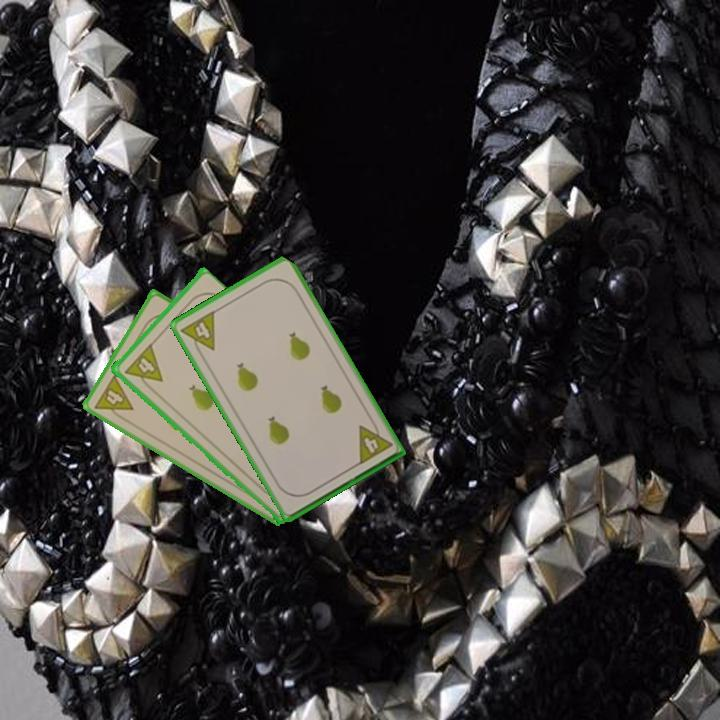4p: (91, 371, 136, 424), (120, 341, 165, 394), (177, 307, 218, 360), (354, 416, 395, 468)
